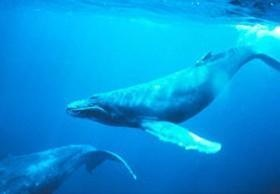fish: (55, 45, 280, 153)
